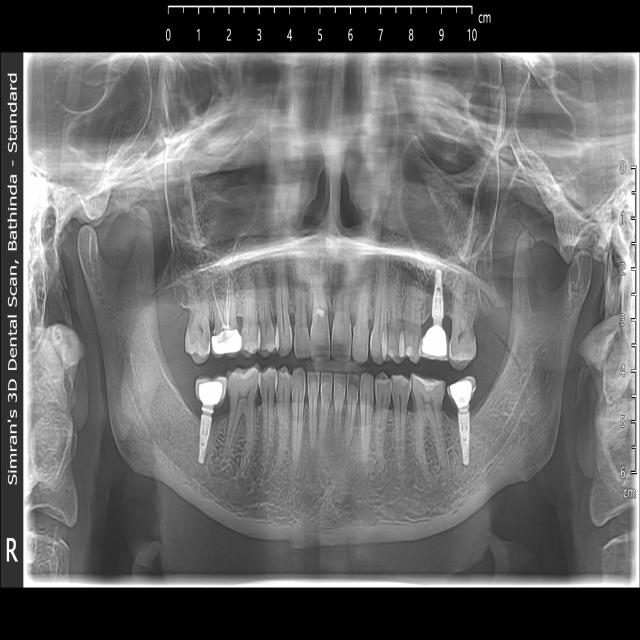Caries: (184, 309, 211, 360), (450, 320, 476, 363), (312, 307, 331, 359)
Crown: (446, 378, 473, 408), (213, 331, 240, 354)
Filling: (411, 374, 446, 409)
Implant: (424, 271, 445, 325), (198, 405, 213, 463), (458, 408, 469, 463)
Root Canal Treatment: (206, 272, 241, 358)
